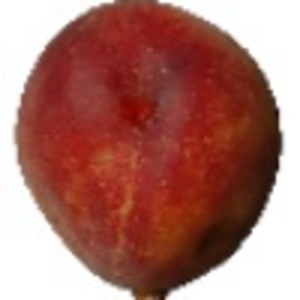pêssego: (1, 1, 284, 300)
